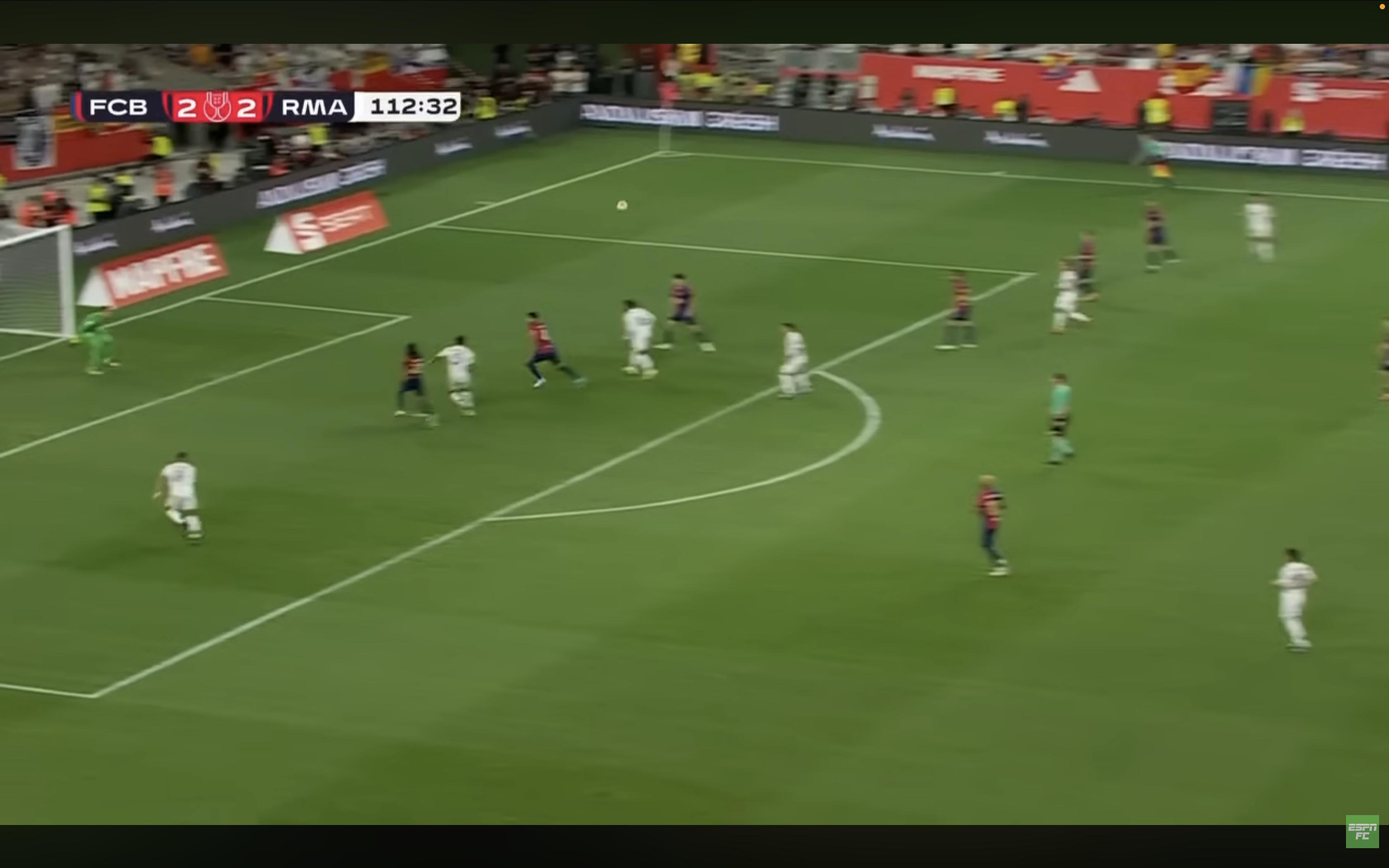ball: (617, 200, 628, 211)
goalkeeper: (76, 309, 119, 374)
player: (655, 274, 715, 352), (526, 312, 586, 388), (1273, 549, 1317, 651), (153, 452, 202, 542), (431, 336, 476, 416), (975, 475, 1010, 577), (395, 344, 437, 427), (936, 271, 976, 350), (1051, 260, 1092, 334), (623, 300, 657, 379), (778, 323, 811, 398), (1144, 202, 1179, 272), (1244, 194, 1274, 262), (1077, 231, 1099, 301), (1379, 320, 1389, 401)
referee: (1047, 374, 1076, 465), (1136, 135, 1175, 186)
